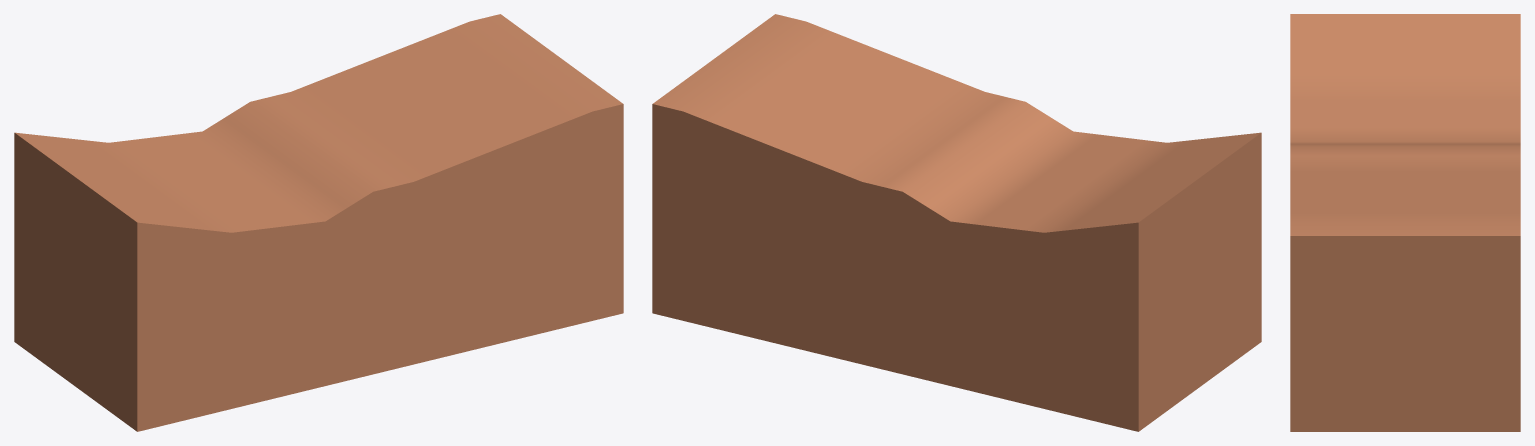
3 renders of one model, left to right at view 1: azimuth 30°, elevation 25°; view 2: azimuth 150°, elevation 25°; view 3: azimuth 270°, elevation 25°, orthographic. The views are drawn at different scales.
Parts seen in each view (by area): view 1: pCube4; view 2: pCube4; view 3: pCube4.
Boxes of the visible parts, box(x1,y1,x2,y2) form: pCube4: box(14, 14, 623, 431); pCube4: box(652, 14, 1261, 431); pCube4: box(1290, 14, 1520, 431).
Size of the model in its own units: 3.75 by 1.55 by 1.64.
